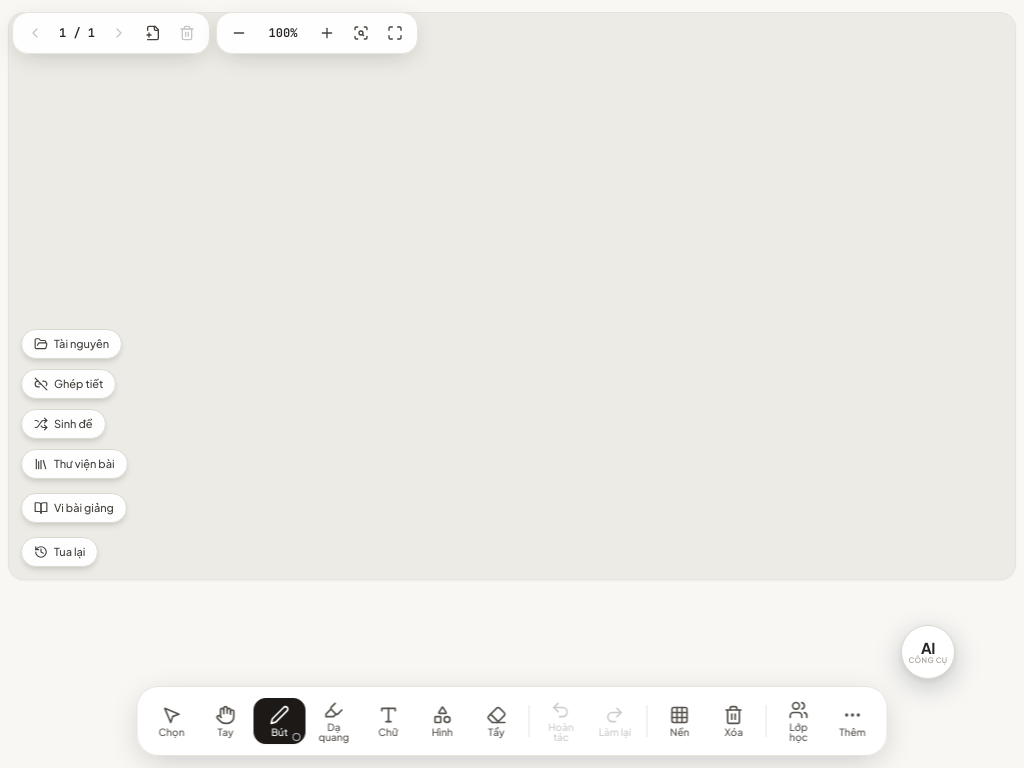
Test: Bảng chung ghép với tiết (tích hợp) › ghép bằng mã: nạp bài của tiết, nối phòng đúng vai trò giáo viên, tắt thư viện cục bộ, lưu phiên trong thẻ trình duyệt
Expected: the button with test id "lesson-library-open" is shown, [21,449,128,479]
Click the button with test id "pair-open" at [69, 384], box [21,369,116,399]
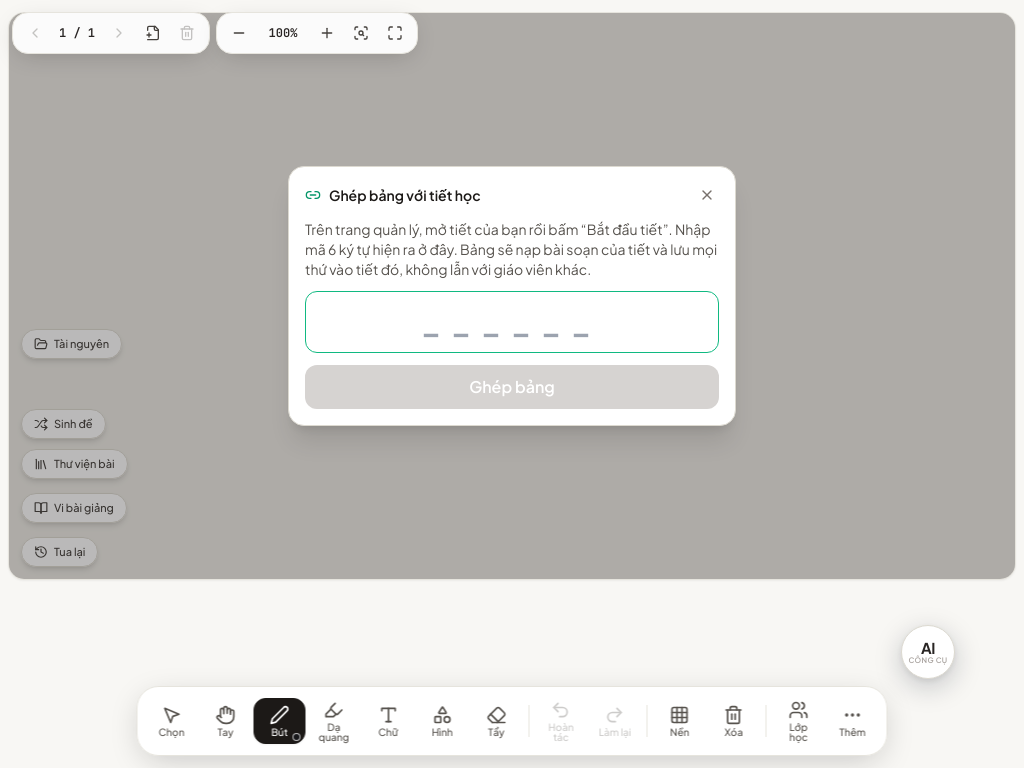
Type "ABC234" into the field with test id "pair-code-input" at [512, 322], box [305,291,719,353]
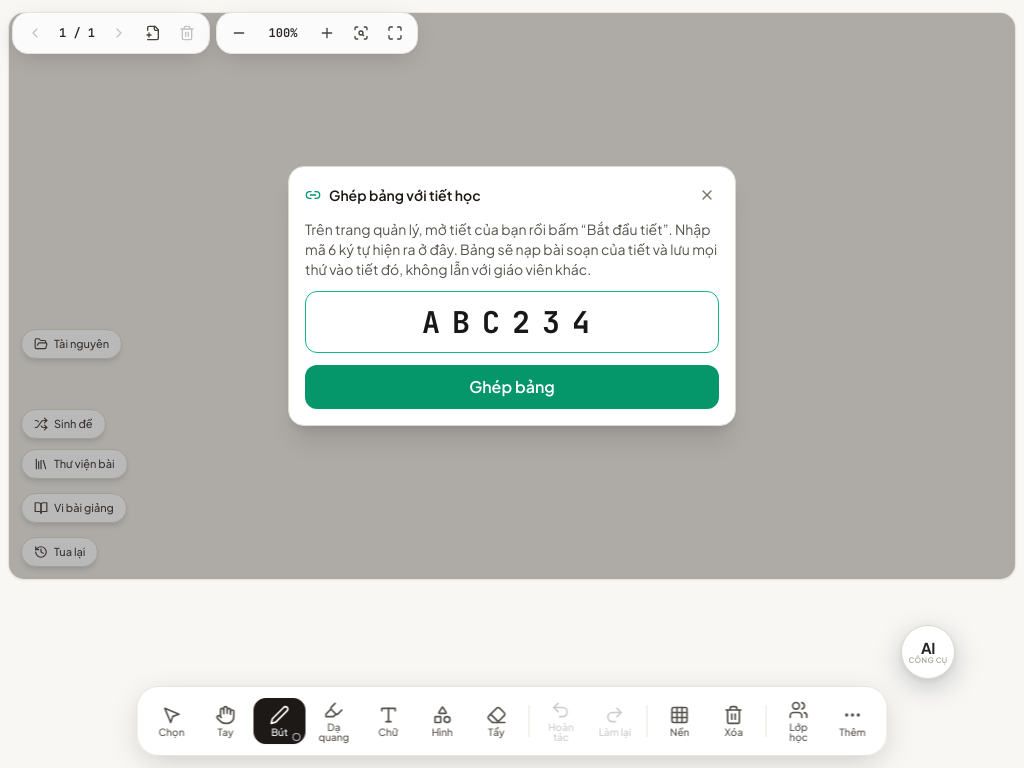
Click the button with test id "pair-submit" at [512, 387], box [305,365,719,409]
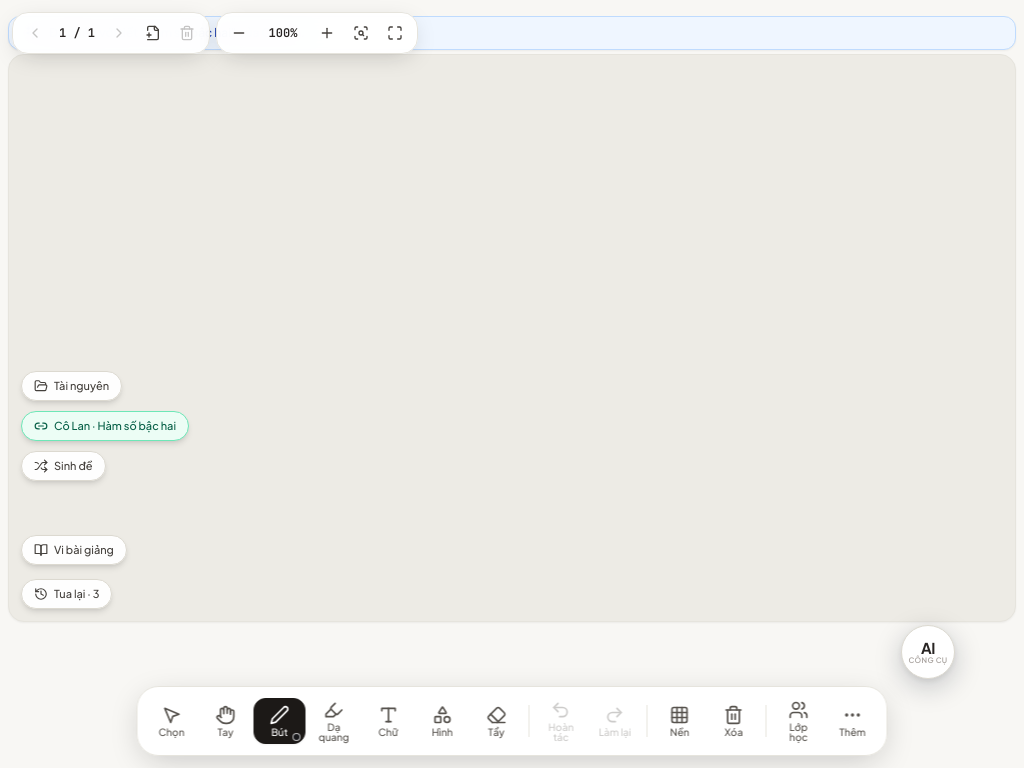
Result: the button with test id "pair-open" reads "Cô Lan · Hàm số bậc hai" at [21,411,189,441]
Result: the button with test id "lesson-library-open" is gone
Result: the element with test id "info-toast" shows "Hàm số bậc hai" at [49,25,305,40]
